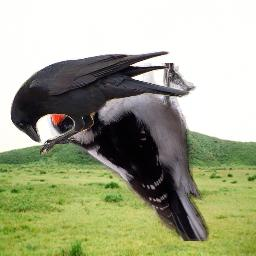Crow: (10, 51, 191, 157)
Woodpecker: (47, 63, 210, 241)
